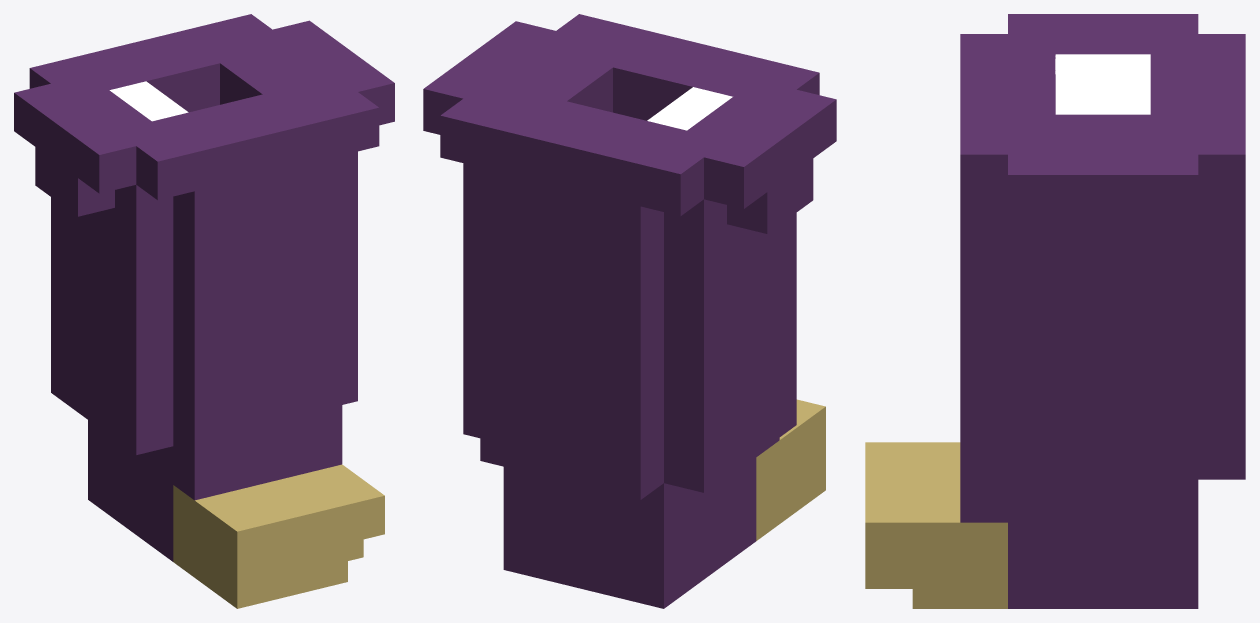
Rendered from mystic_epic_glove_L_lod1.glb.
3 renders of one model, left to right at view 1: azimuth 30°, elevation 25°; view 2: azimuth 150°, elevation 25°; view 3: azimuth 270°, elevation 25°, orthographic. The views are drawn at different scales.
Parts seen in each view (by area): view 1: mystic_epic_glove_L_lod1; view 2: mystic_epic_glove_L_lod1; view 3: mystic_epic_glove_L_lod1.
Boxes of the visible parts, x1,y1,x2,y2 form: mystic_epic_glove_L_lod1: [14, 14, 394, 608]; mystic_epic_glove_L_lod1: [423, 14, 836, 608]; mystic_epic_glove_L_lod1: [865, 14, 1245, 608].
Bounding box in the file's own units: 0.192 × 0.264 × 0.192.
